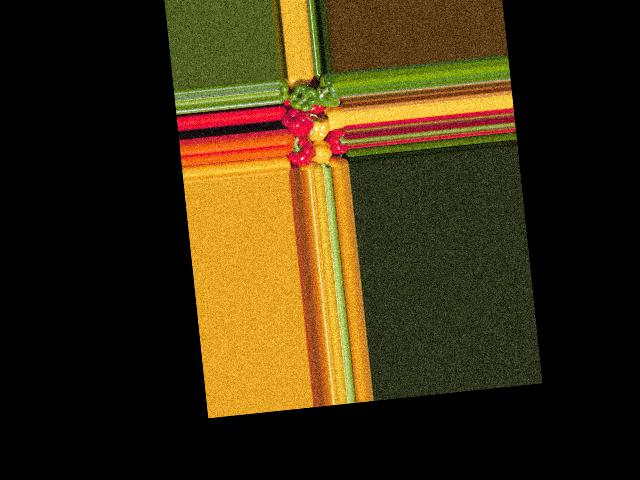bell_pepper: (276, 76, 293, 104)
